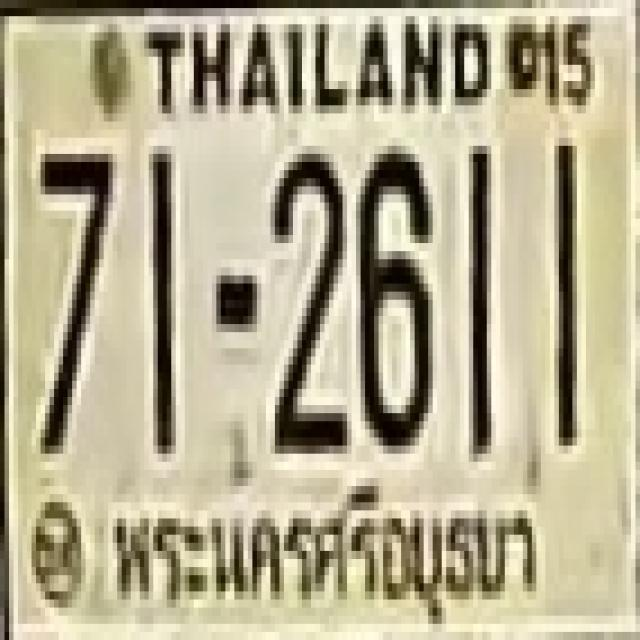1: (464, 142, 487, 450), (149, 142, 171, 450), (550, 134, 572, 442)
2: (270, 146, 342, 445)
6: (356, 142, 428, 450)
7: (36, 146, 108, 445)
AYA: (108, 476, 543, 623)
